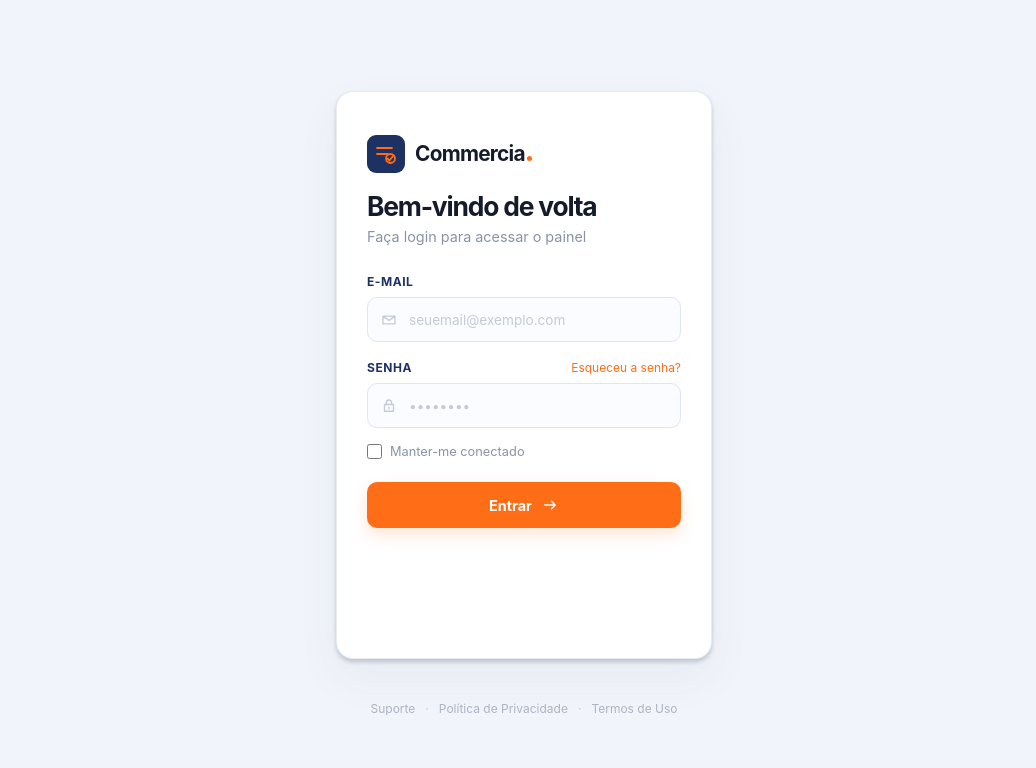
loads real product prices and stock, then applies category and text filters
Type "admin" into the field labelled "E-mail" at (524, 320), box [367,297,681,342]
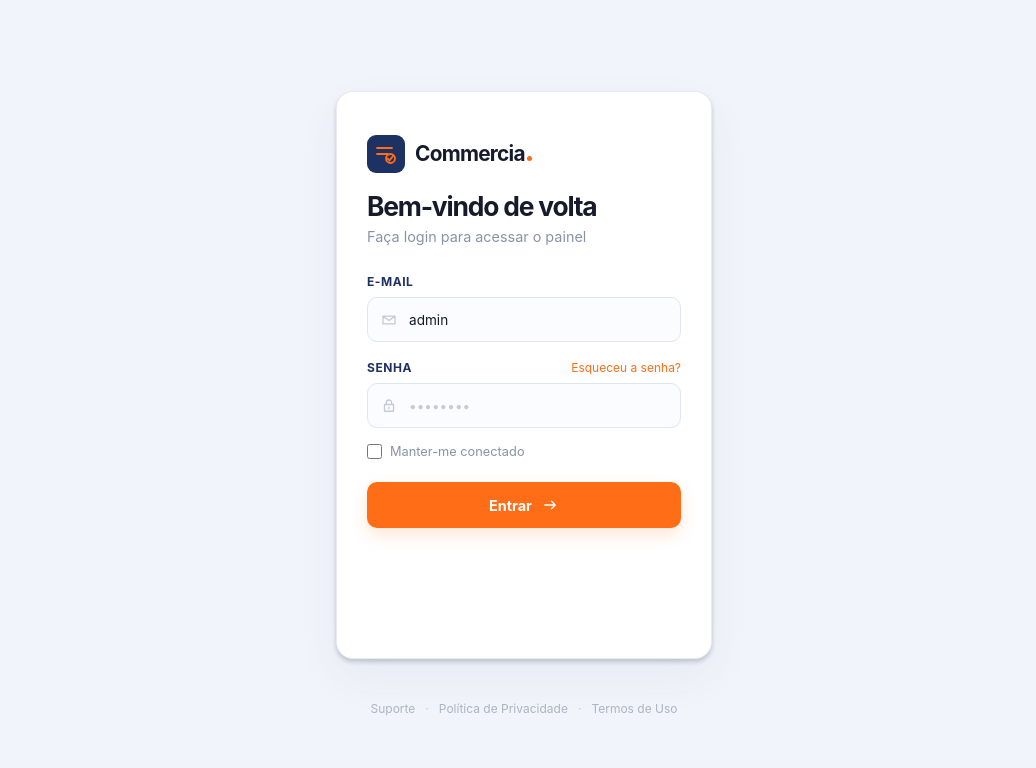
Type "secret" into the password field labelled "Senha" at (524, 406), box [367,383,681,428]
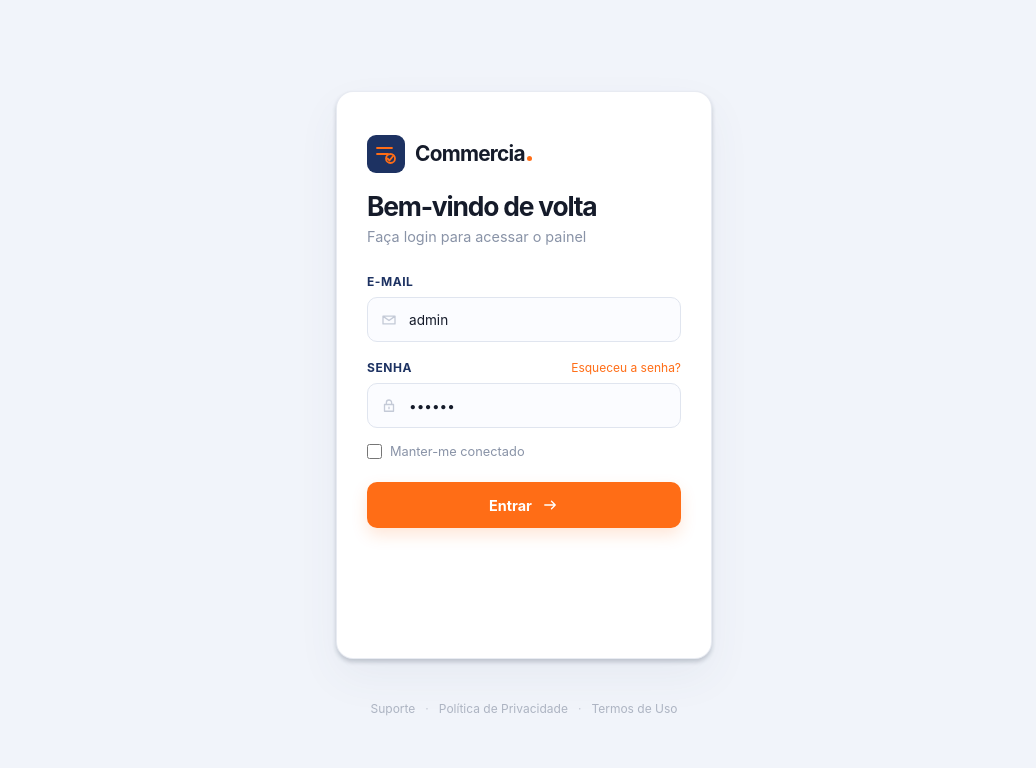
Submit the form "E-mail Senha Esqueceu a senha? Manter-me conectado Entrar", box [367,274,681,528]
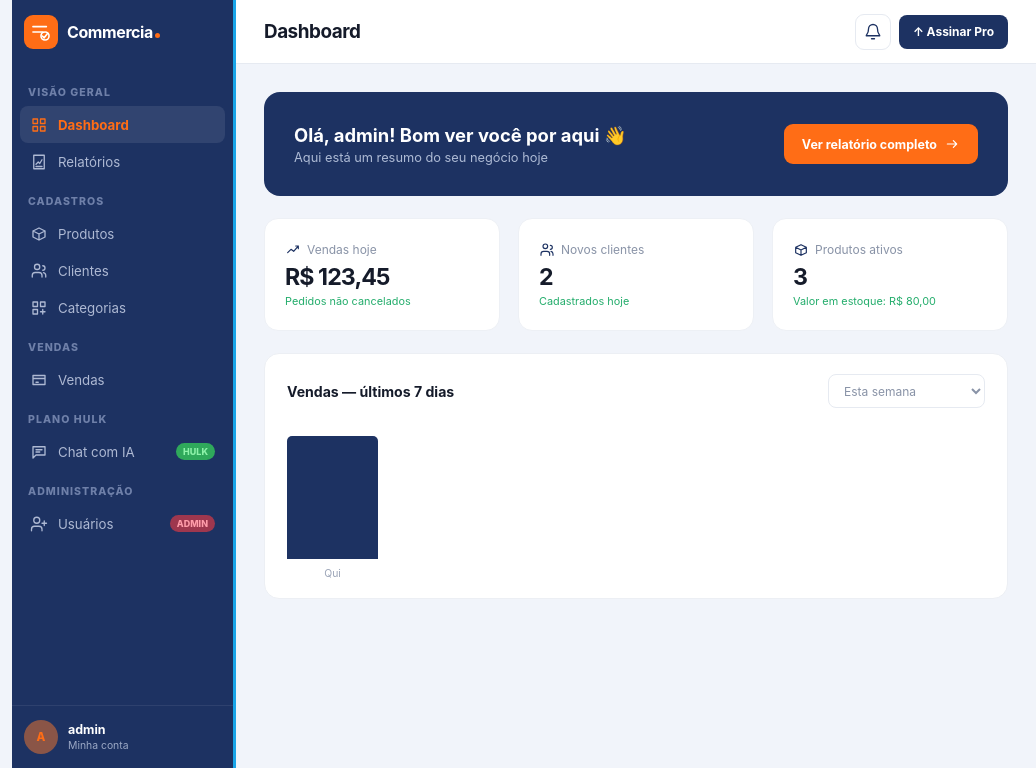
Expected: the heading "Dashboard" is shown, [264,20,360,43]
Click the button "Produtos" at (122, 234), box [20,215,225,252]
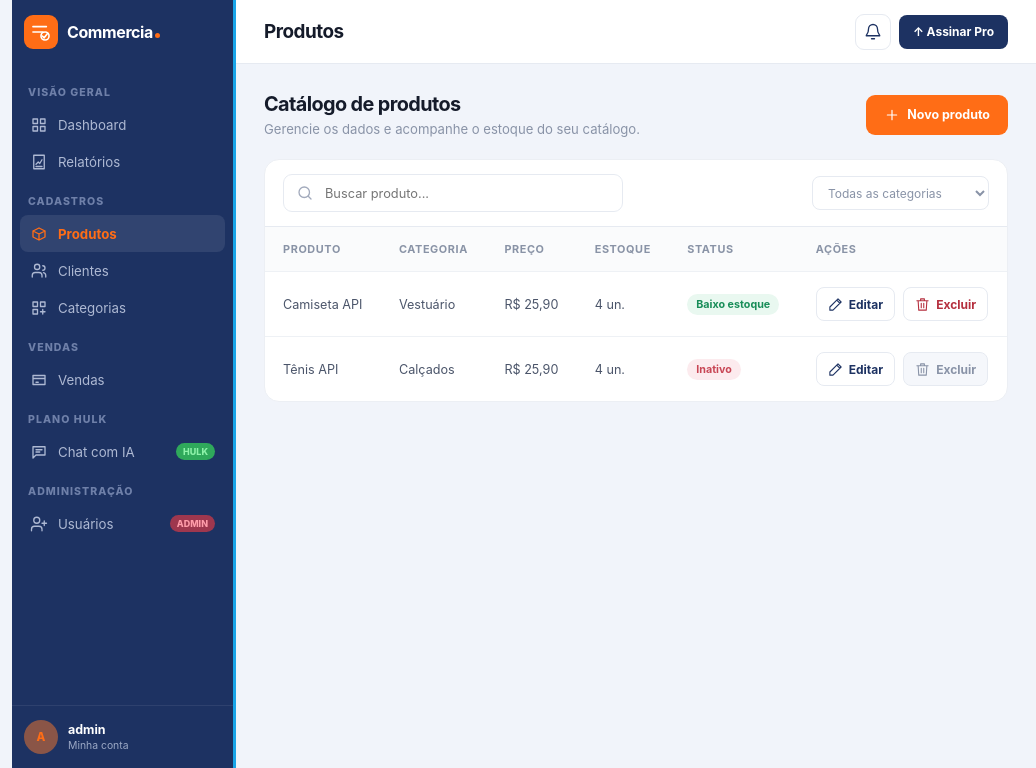
Expected: the text "Camiseta API" is shown, [265,272,381,336]
Expected: the text "R$ 25,90" is shown 2 times, [486,272,577,336]; [486,336,577,401]
Expected: the text "Baixo estoque" is shown, [687,294,779,314]
Select "Vestuário" in the dropdown named "Categoria" at (900, 193), box [812,176,989,210]
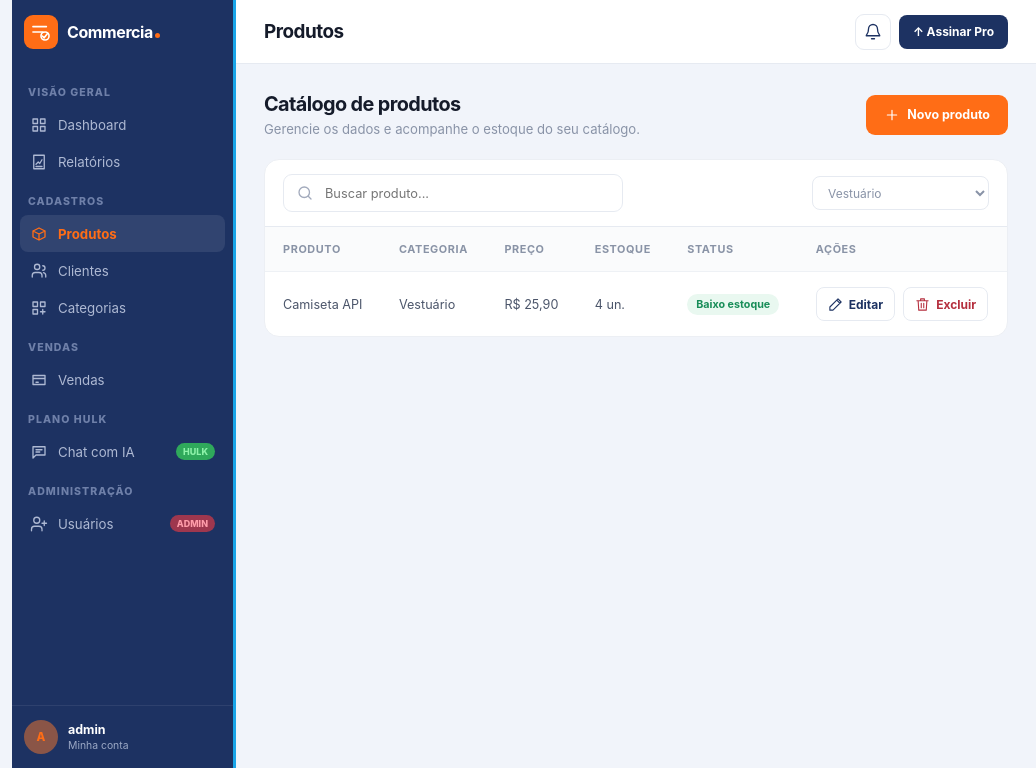
Expected: the text "Tênis API" is gone
Type "inexistente" into the field named "Pesquisar" at (466, 193), box [323,184,610,202]
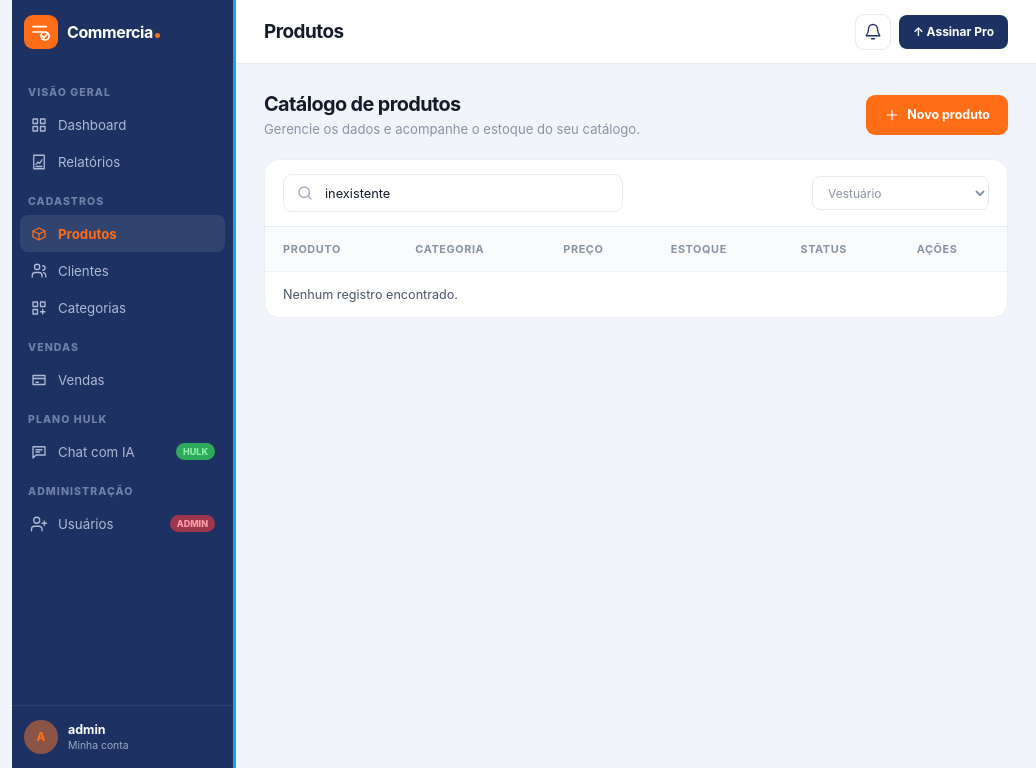
Expected: the text "Nenhum registro encontrado." is shown, [265,272,1007,317]
